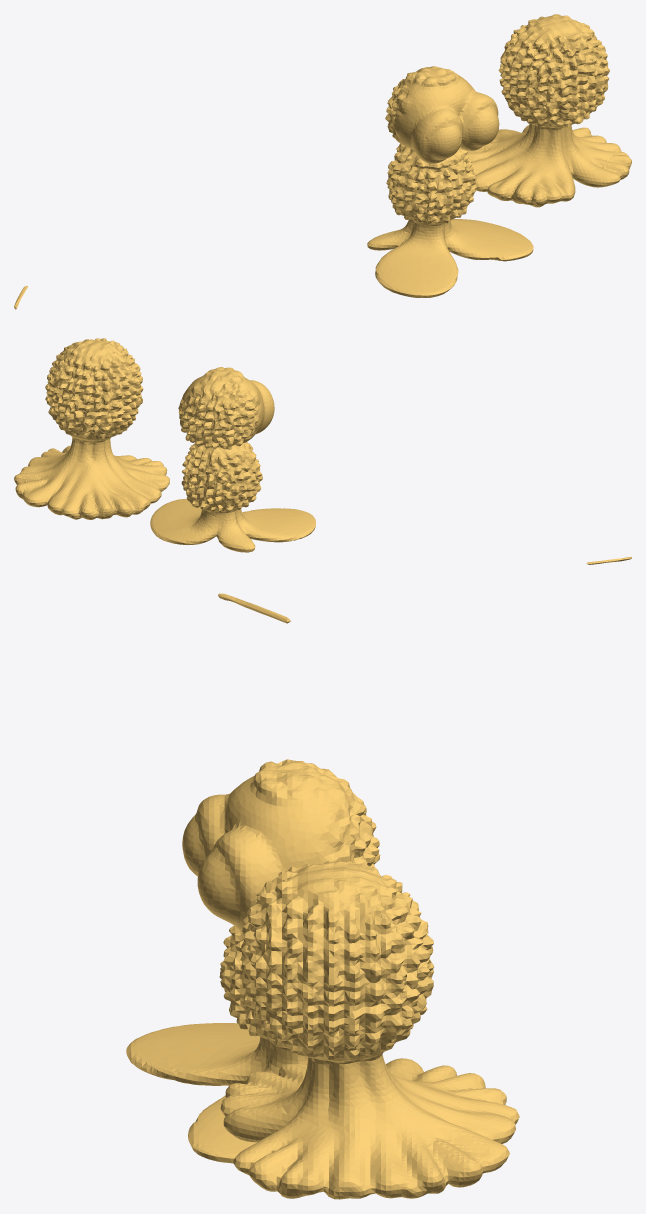
Rendered from kora_v6.glb.
3 renders of one model, top to bottom at view 1: azimuth 30°, elevation 25°; view 2: azimuth 150°, elevation 25°; view 3: azimuth 270°, elevation 25°, orthographic. The views are drawn at different scales.
Visible parts, largest first — view 1: tmpgptakw50.ply; view 2: tmpgptakw50.ply; view 3: tmpgptakw50.ply.
Boxes of the visible parts, x1,y1,x2,y2 form: tmpgptakw50.ply: [14, 14, 631, 309]; tmpgptakw50.ply: [14, 338, 631, 564]; tmpgptakw50.ply: [126, 593, 519, 1199].
Bounding box in the file's own units: 1.99 × 0.5702 × 0.5947.
